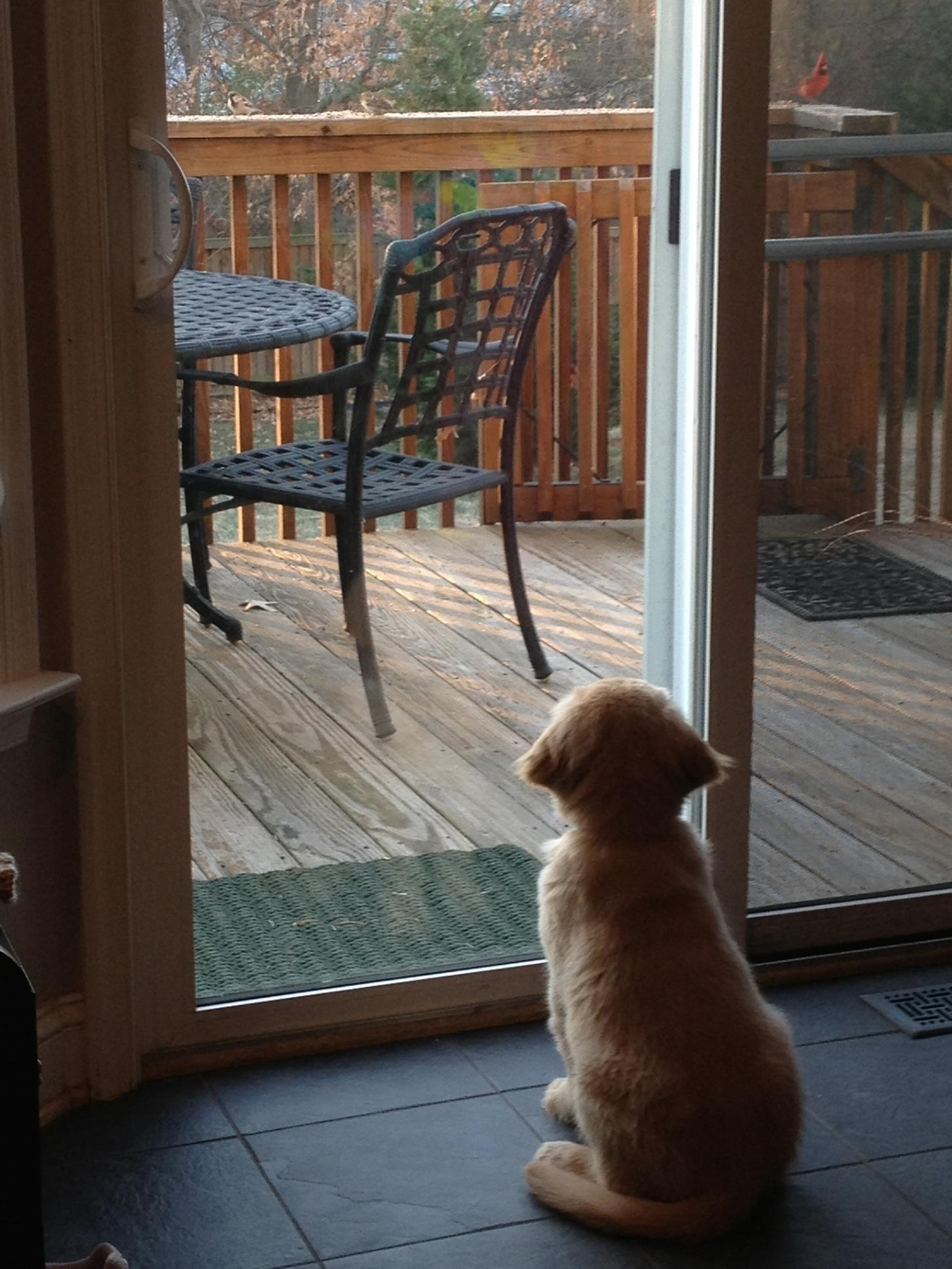non-dog: (772, 50, 833, 100), (359, 90, 403, 115), (226, 91, 263, 118)
puppy-dog: (512, 678, 808, 1251)
